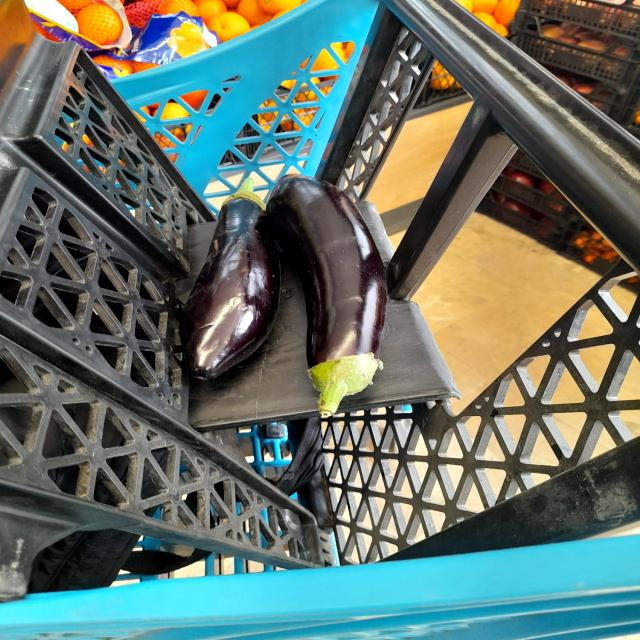eggplant: (262, 163, 388, 417), (170, 169, 278, 384)
